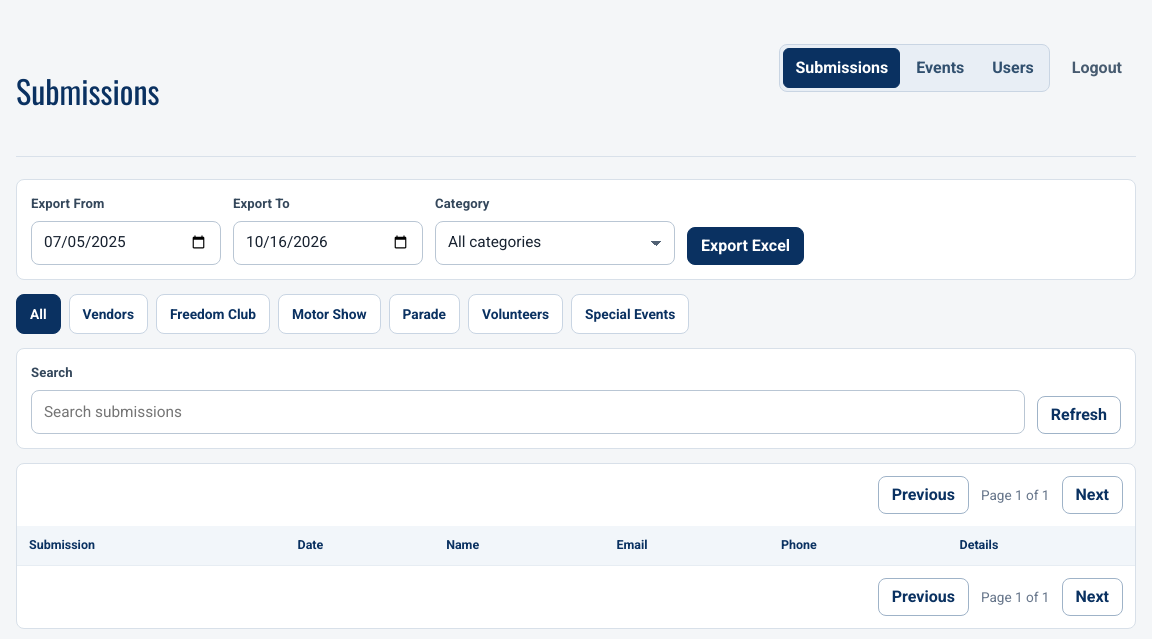
AdminComponent › shows normalized motor show details for structured card purchases
What coordinates should you click on to do the following:
click the button with test id "admin-section-submissions"
I would click on:
 (842, 68)
Its box is 783,48 -> 900,88.
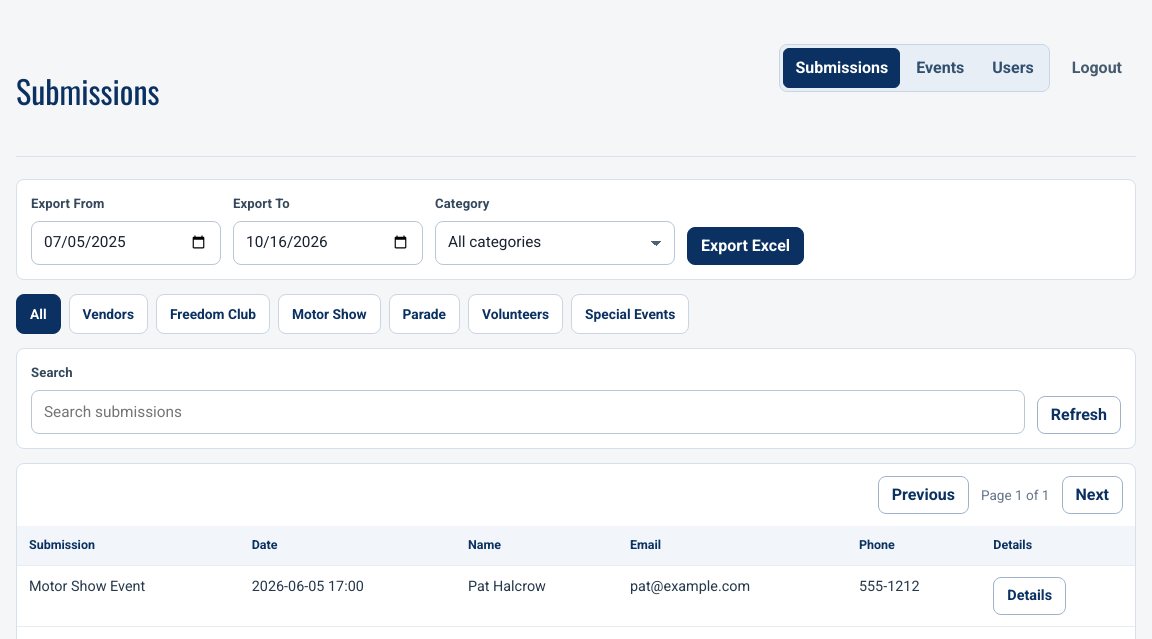
What coordinates should you click on to do the following:
click the row with test id "submission-row-s1"
I would click on:
 (576, 596)
Its box is 17,565 -> 1135,626.
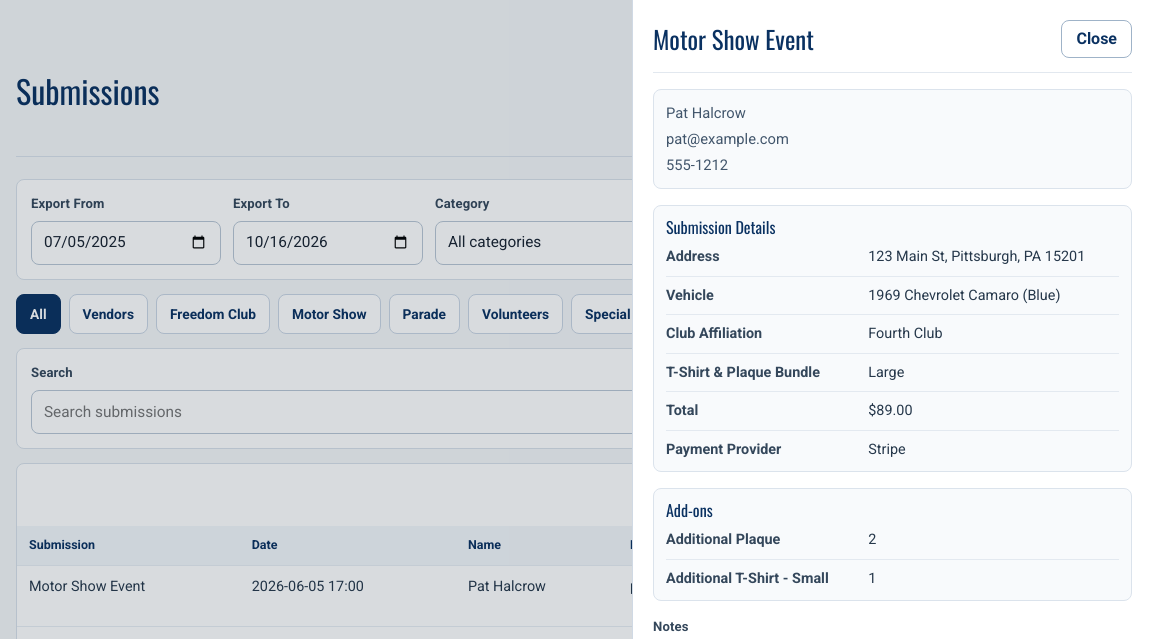
Result: the element with class "submission-detail-panel" shows "Address" at 666,248 -> 720,265
Result: the element with class "submission-detail-panel" shows "123 Main St, Pittsburgh, PA 15201" at 868,248 -> 1085,265
Result: the element with class "submission-detail-panel" shows "Vehicle" at 666,287 -> 714,304
